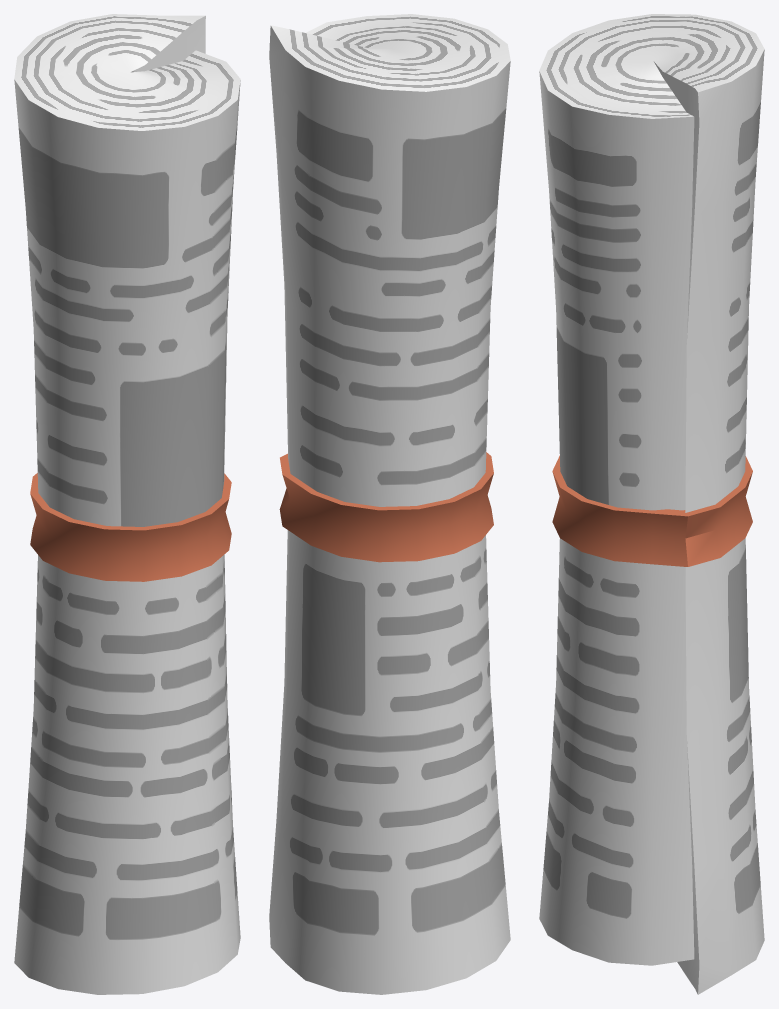
The model's file is newspaper.fbx.
3 views of the same model, side by side, from view 1: azimuth 30°, elevation 25°; view 2: azimuth 150°, elevation 25°; view 3: azimuth 270°, elevation 25° (orthographic). The views are drawn at different scales.
Visible parts, largest first — view 1: newspaper; view 2: newspaper; view 3: newspaper.
Boxes of the visible parts, box(x1,y1,x2,y2) form: newspaper: box(14, 14, 240, 994); newspaper: box(269, 14, 510, 994); newspaper: box(539, 14, 764, 994).
Bounding box in the file's own units: 0.103 × 0.4473 × 0.1012.
